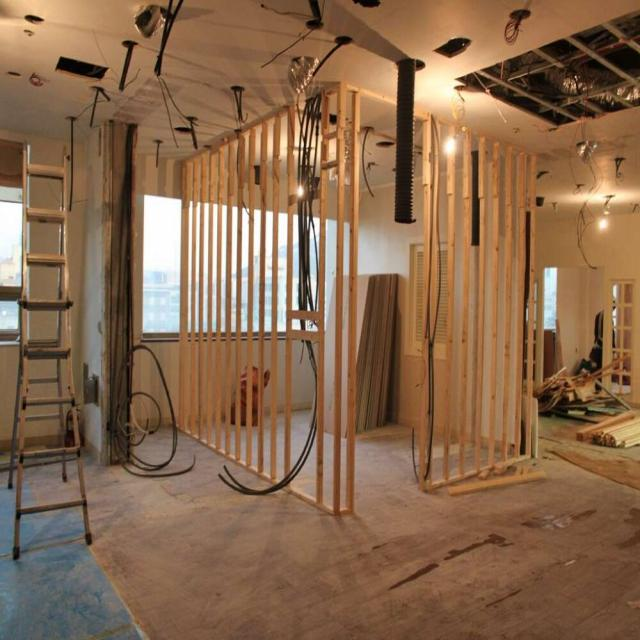board: (308, 274, 370, 439)
stud: (336, 81, 537, 517), (178, 81, 345, 518)
wood: (576, 411, 636, 442)
